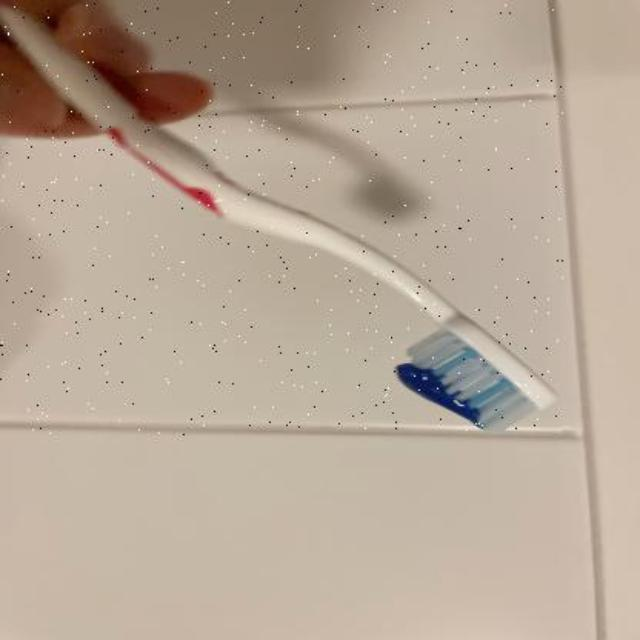toothbrush: (1, 2, 564, 434)
